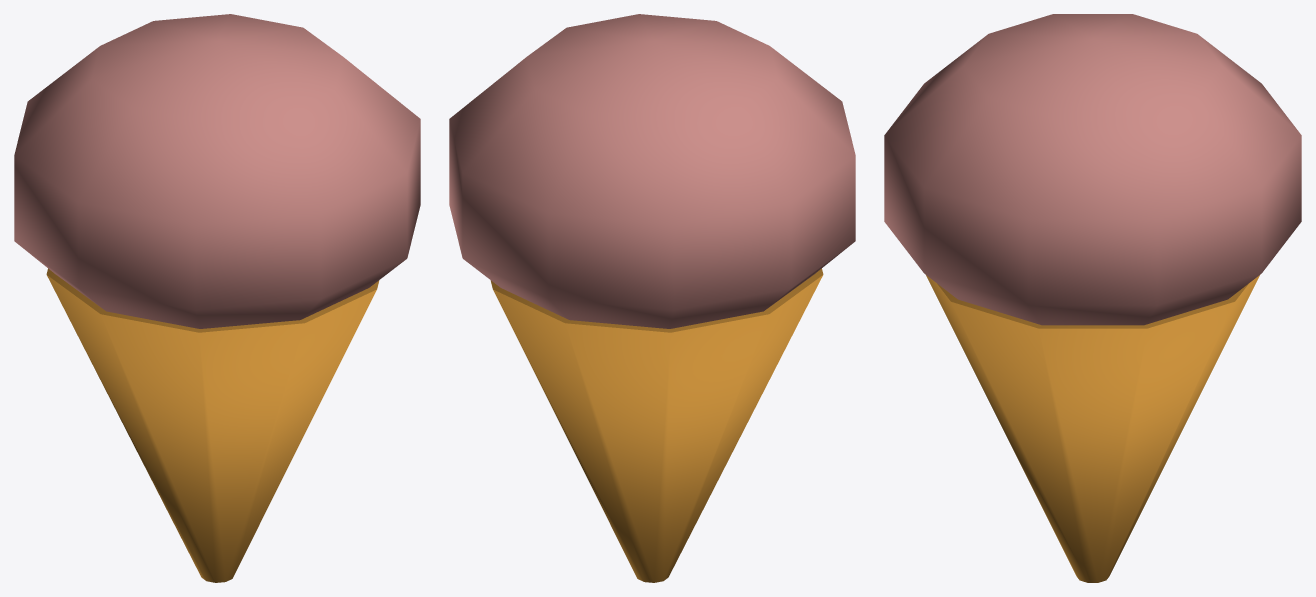
File: topper_cone.glb
The picture shows the model from 3 angles, left to right: view 1: azimuth 30°, elevation 25°; view 2: azimuth 150°, elevation 25°; view 3: azimuth 270°, elevation 25°; orthographic projection.
Visible parts, largest first — view 1: topper_cone; view 2: topper_cone; view 3: topper_cone.
Part boxes in pixels (left/top/right/bottom): topper_cone: left=14, top=14, right=420, bottom=582; topper_cone: left=449, top=14, right=855, bottom=582; topper_cone: left=884, top=14, right=1301, bottom=582.
Size of the model in its own units: 0.3618 by 0.54 by 0.3804.
